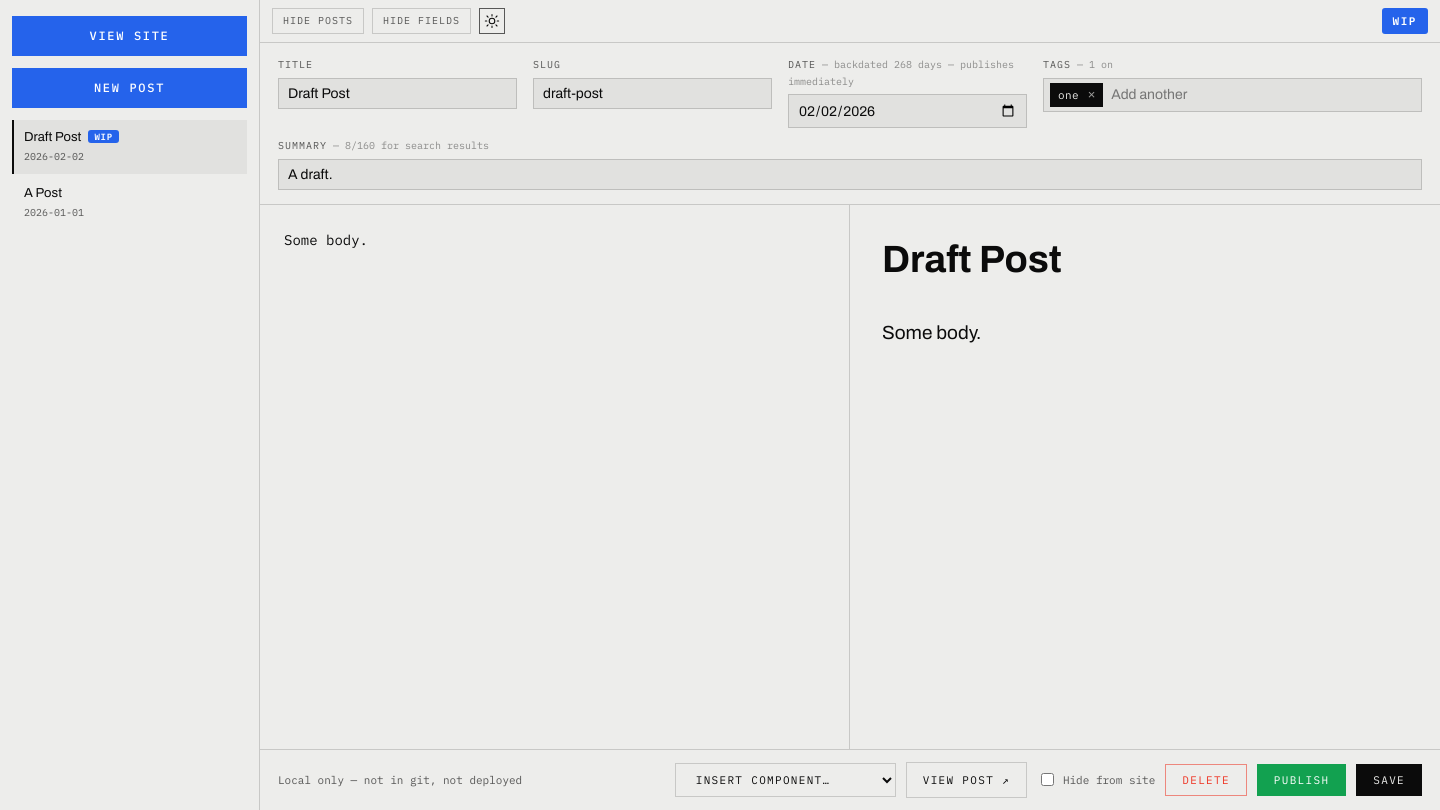
Test case: confirming › warns before discarding unsaved work
Type " edited" into the field labelled "Title" at (398,93), box [278, 78, 517, 108]
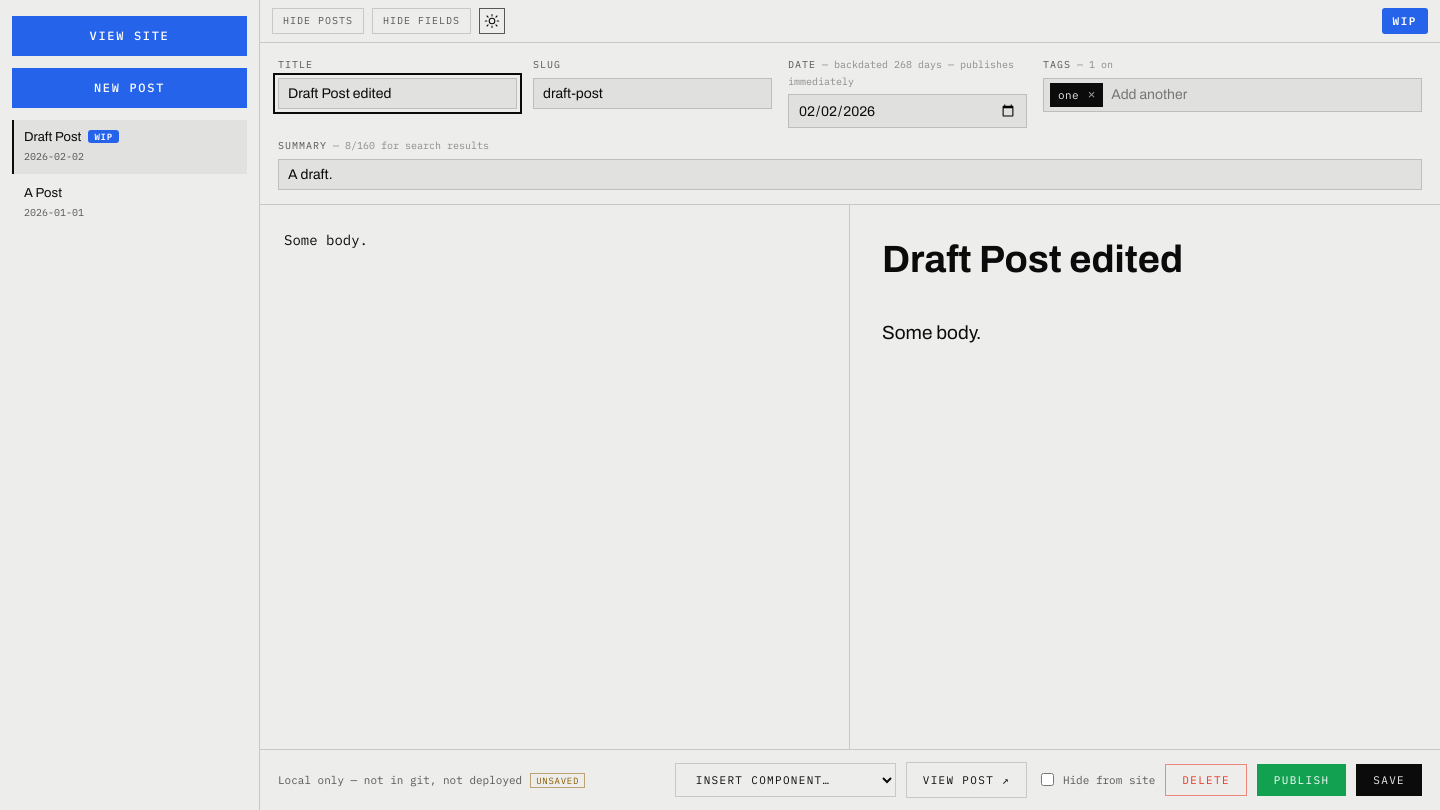
Click the button "New post" at (130,88), box [12, 68, 247, 108]
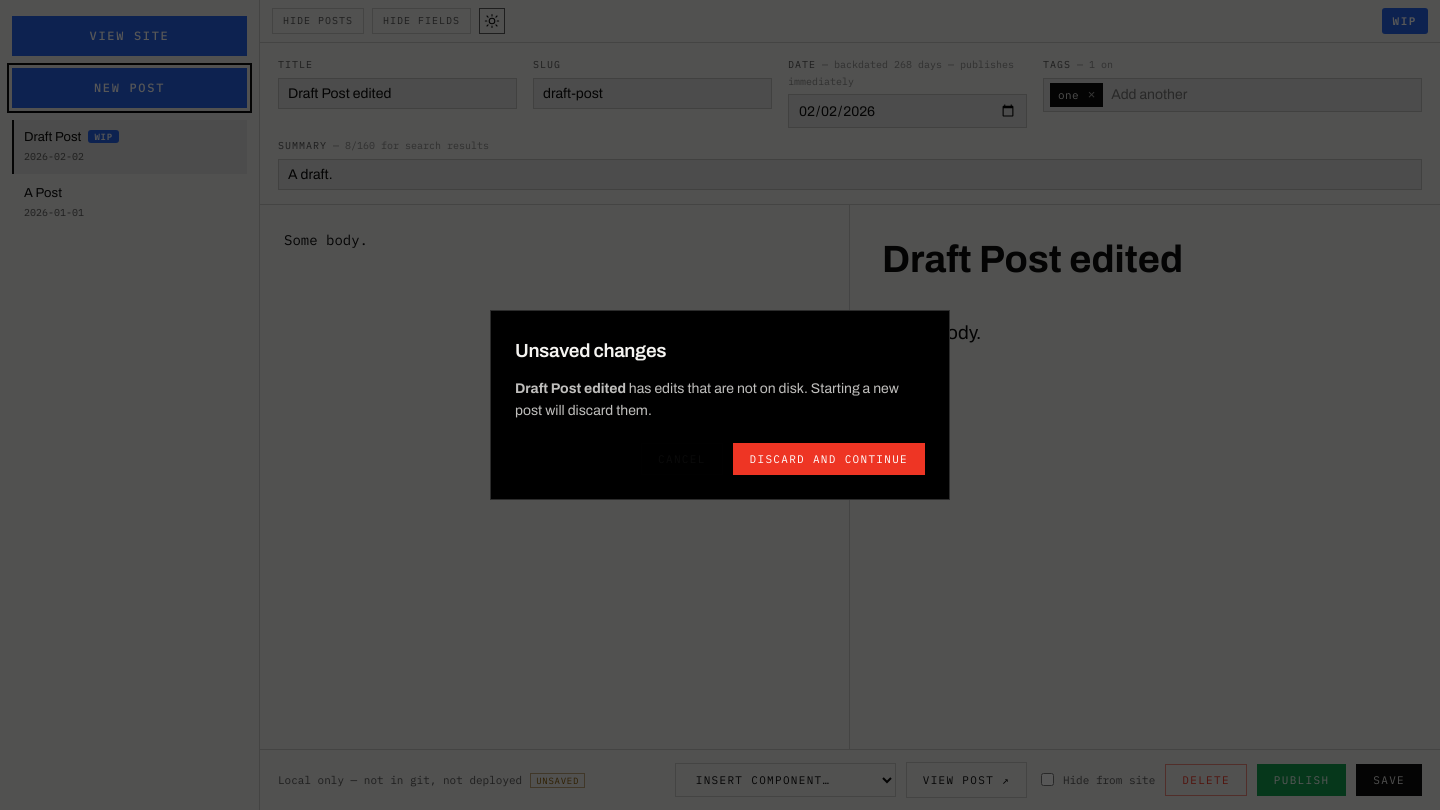
Check: the dialog shows "Unsaved changes", box [515, 340, 666, 361]
